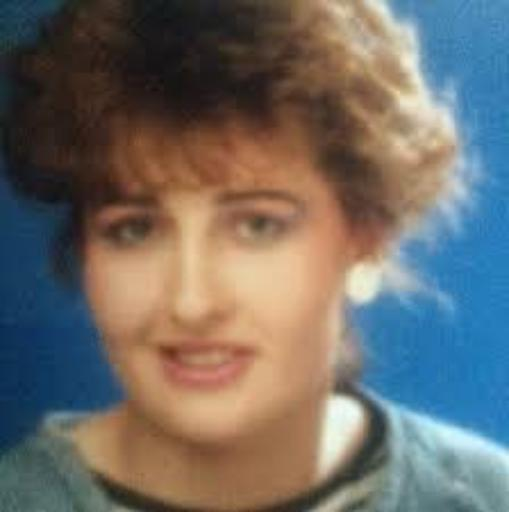left_eye: (228, 209, 292, 241)
left_lip_corner: (236, 341, 269, 365)
right_eye: (105, 215, 157, 245)
right_lip_corner: (148, 338, 177, 364)
